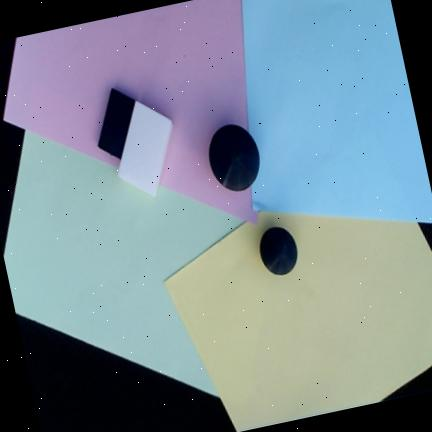Esfera: (209, 124, 260, 192), (259, 226, 297, 275)
Paralelepipedo: (117, 100, 173, 197), (97, 87, 136, 160)
